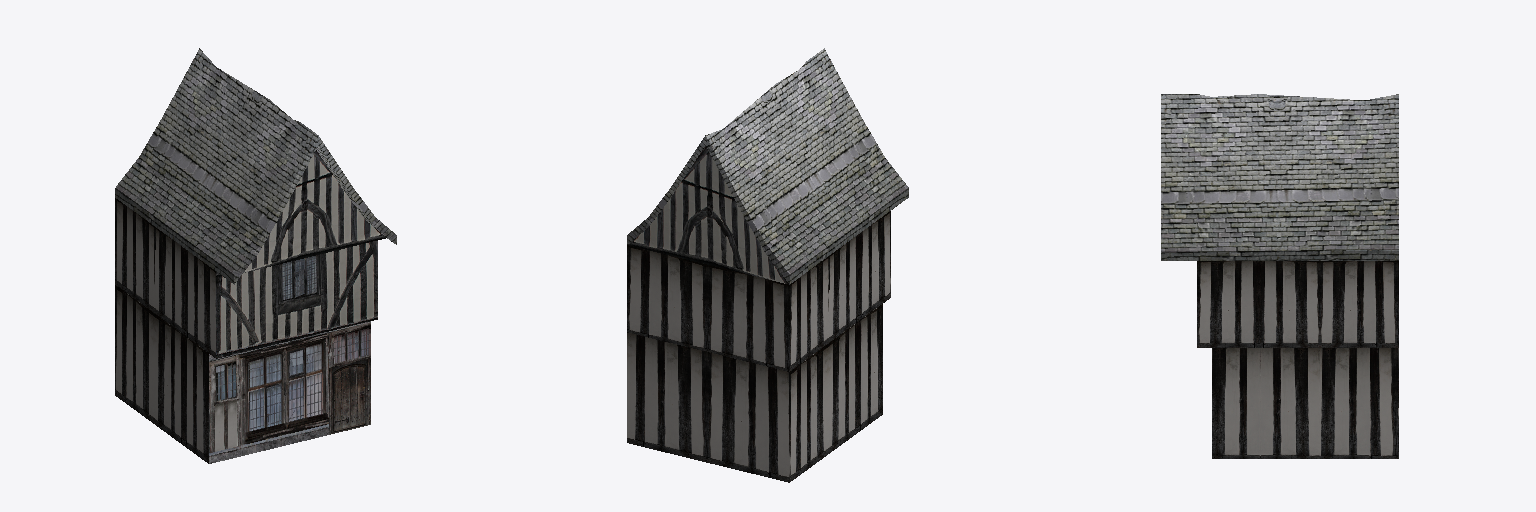
3 views of the same model, side by side, from view 1: azimuth 30°, elevation 25°; view 2: azimuth 150°, elevation 25°; view 3: azimuth 270°, elevation 25° (orthographic).
Visible parts, largest first — view 1: _; view 2: _; view 3: _.
Boxes of the visible parts, x1,y1,x2,y2 form: _: [115, 48, 396, 463]; _: [627, 48, 908, 482]; _: [1161, 94, 1398, 458].
Bounding box in the file's own units: 248 × 477 × 314.
1 materials, 1 textured.